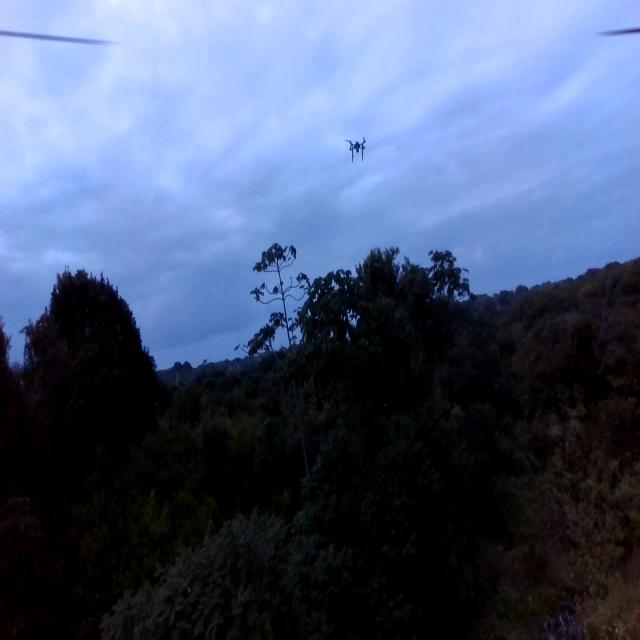-uav-: (340, 131, 374, 170)
